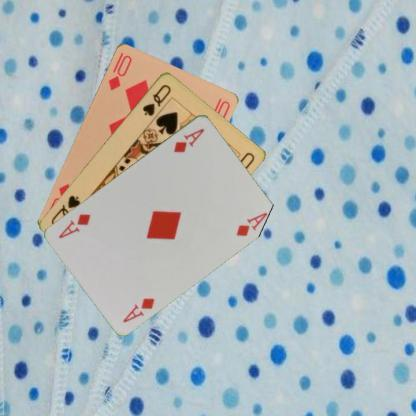10d: (105, 50, 133, 92)
Ad: (120, 294, 156, 324), (171, 124, 206, 154)
Qs: (140, 80, 172, 118)
